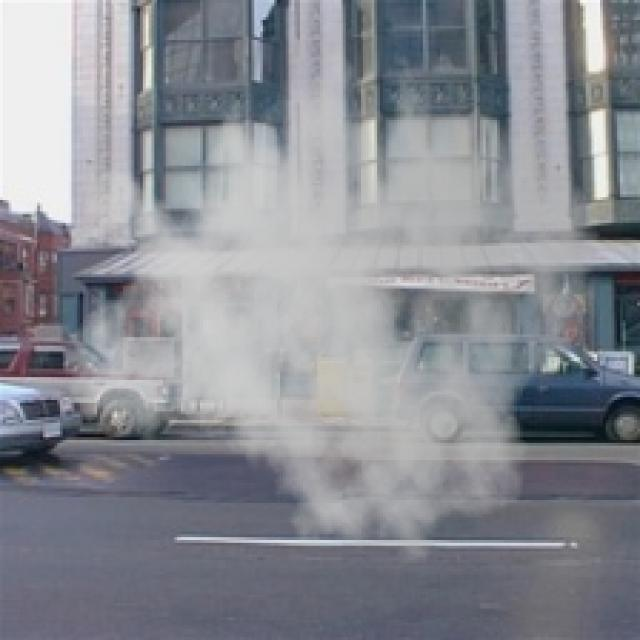smoke: (60, 17, 600, 577)
